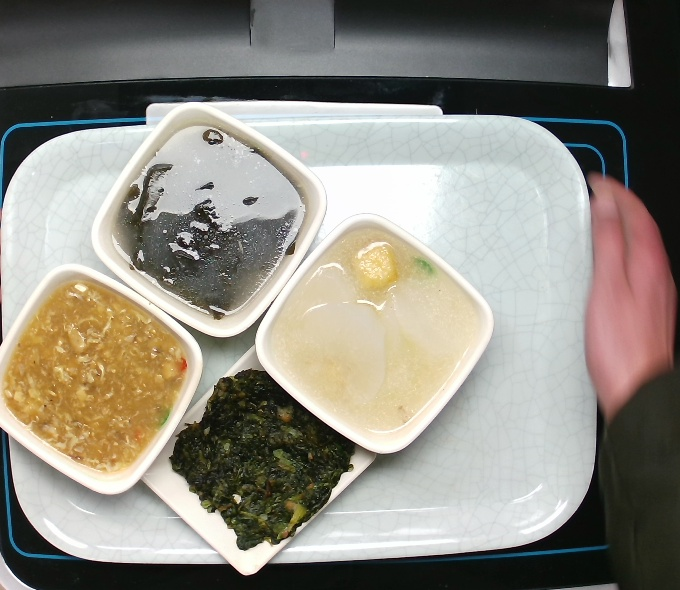wcq-HaiDaiPaiGuTang: (128, 124, 292, 313)
wcq-LuoBoYouPaoTang: (291, 241, 454, 410)
wcq-QinCaiBing: (185, 388, 329, 536)
wcq-SuanLaGeng: (36, 299, 170, 457)
